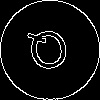Q: (25, 25, 74, 81)
